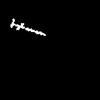double_crochet: (11, 19, 44, 35)
